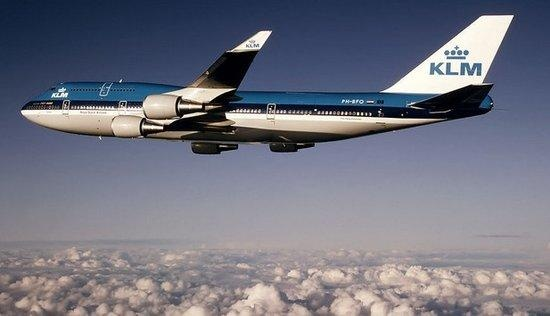airplane: (14, 14, 522, 155)
